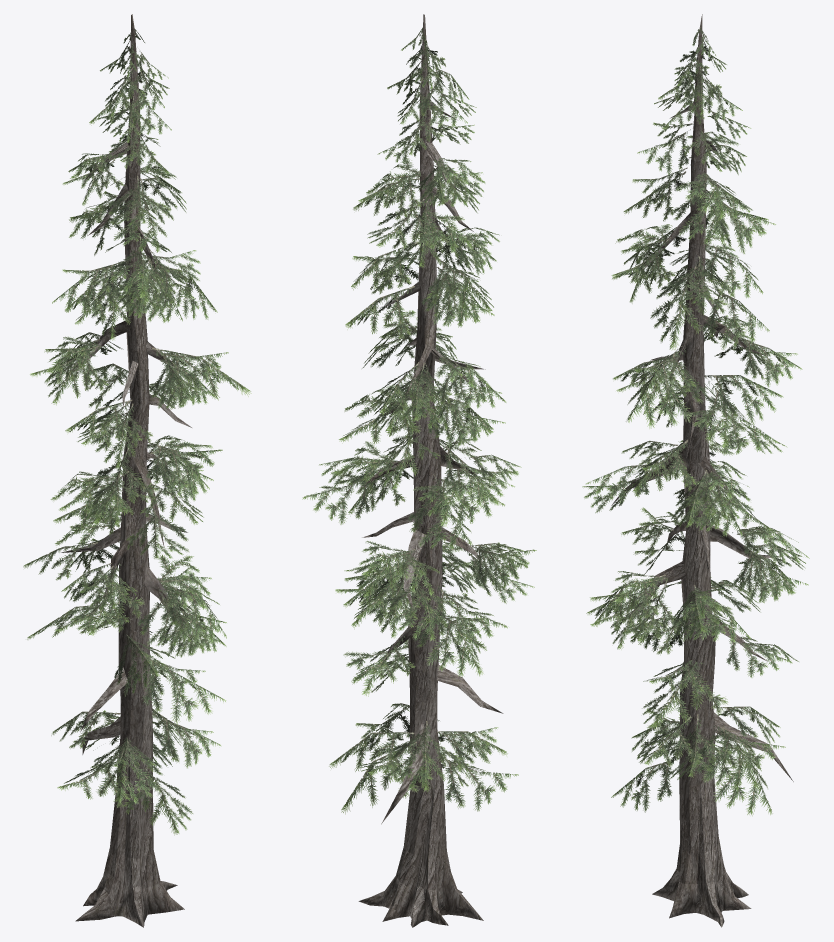
Rendered from bg_lut_tree_commontree08_sm_ksy.FBX.
3 renders of one model, left to right at view 1: azimuth 30°, elevation 25°; view 2: azimuth 150°, elevation 25°; view 3: azimuth 270°, elevation 25°, orthographic.
Parts seen in each view (by area): view 1: bg_lut_tree_commontree08_sm_ksy; view 2: bg_lut_tree_commontree08_sm_ksy; view 3: bg_lut_tree_commontree08_sm_ksy.
Part boxes in pixels (box(x1,y1,x2,y2)): bg_lut_tree_commontree08_sm_ksy: box(23, 14, 251, 927); bg_lut_tree_commontree08_sm_ksy: box(302, 14, 536, 927); bg_lut_tree_commontree08_sm_ksy: box(582, 14, 809, 927).
Bounding box in the file's own units: 132 × 564 × 142.
